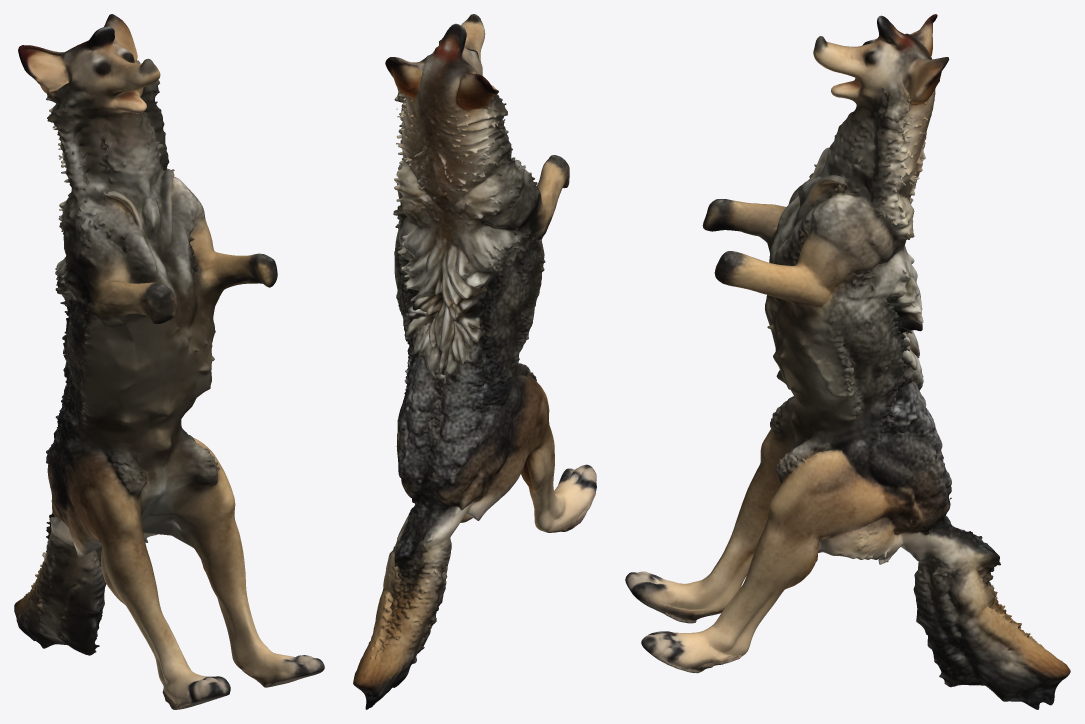
File: pixal3d.glb
The picture shows the model from 3 angles, left to right: view 1: azimuth 30°, elevation 25°; view 2: azimuth 150°, elevation 25°; view 3: azimuth 270°, elevation 25°; orthographic projection. The views are drawn at different scales.
Visible parts, largest first — view 1: world; view 2: world; view 3: world.
Boxes of the visible parts, x1,y1,x2,y2 form: world: [14, 14, 324, 709]; world: [353, 14, 596, 709]; world: [625, 14, 1070, 709].
Size of the model in its own units: 0.2202 by 0.8683 by 0.5117.
Materials: 1 (1 with a texture image).
